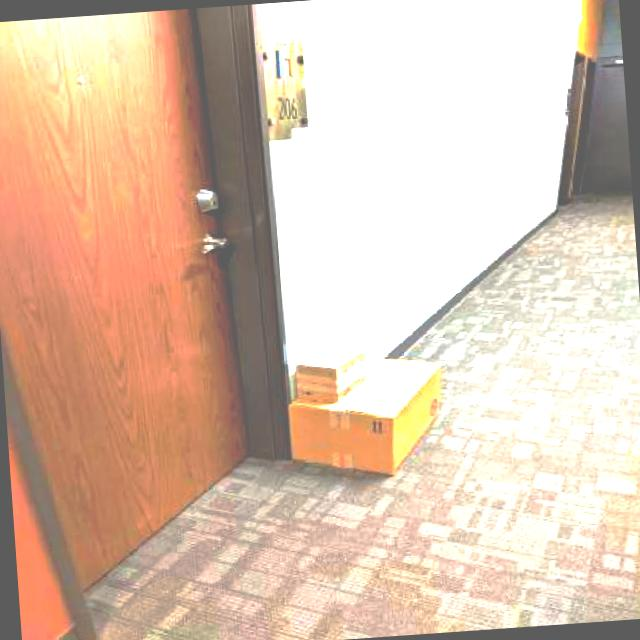Box: (279, 348, 452, 486), (281, 338, 374, 406)
